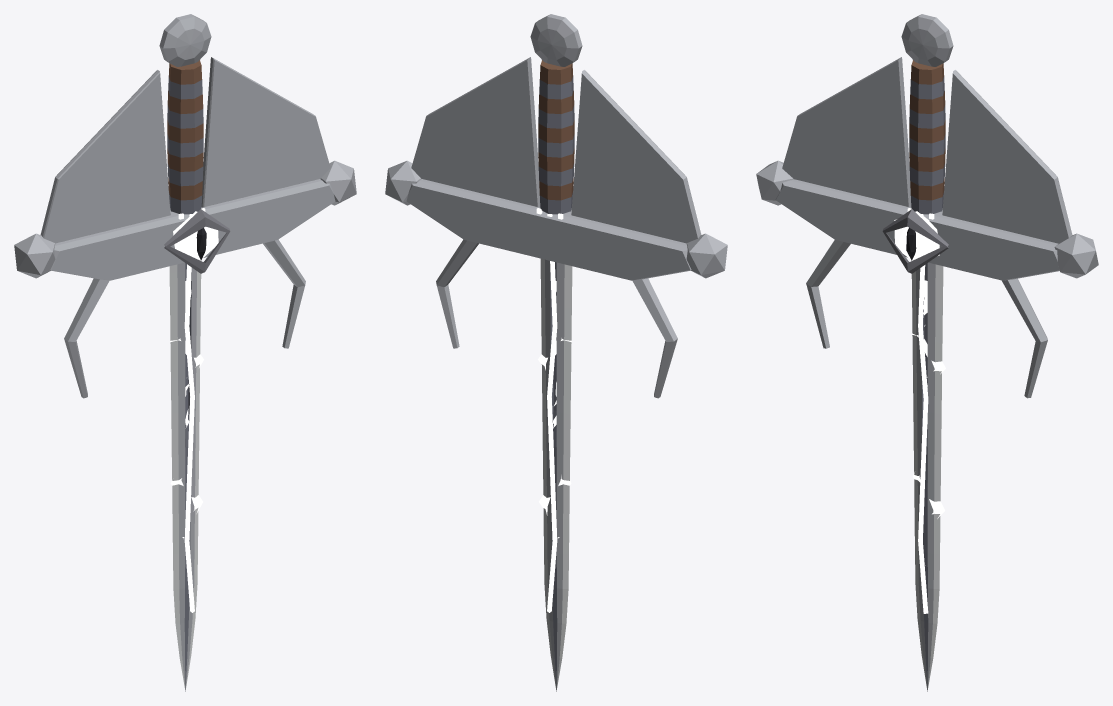
The model's file is blade-answer.glb.
3 views of the same model, side by side, from view 1: azimuth 30°, elevation 25°; view 2: azimuth 150°, elevation 25°; view 3: azimuth 330°, elevation 25° (orthographic).
Parts seen in each view (by area): view 1: blade-answer, blink_eye, pulse_vein; view 2: blade-answer, pulse_vein; view 3: blade-answer, blink_eye, pulse_vein.
Boxes of the visible parts, <box> form: blade-answer: <box>14,14,356,691</box>; blink_eye: <box>164,209,230,273</box>; pulse_vein: <box>184,264,194,612</box>; blade-answer: <box>385,14,727,691</box>; pulse_vein: <box>547,261,557,612</box>; blade-answer: <box>756,14,1098,691</box>; blink_eye: <box>882,209,948,273</box>; pulse_vein: <box>918,265,928,613</box>.
Bounding box in the file's own units: 0.634 × 1.21 × 0.1001.
